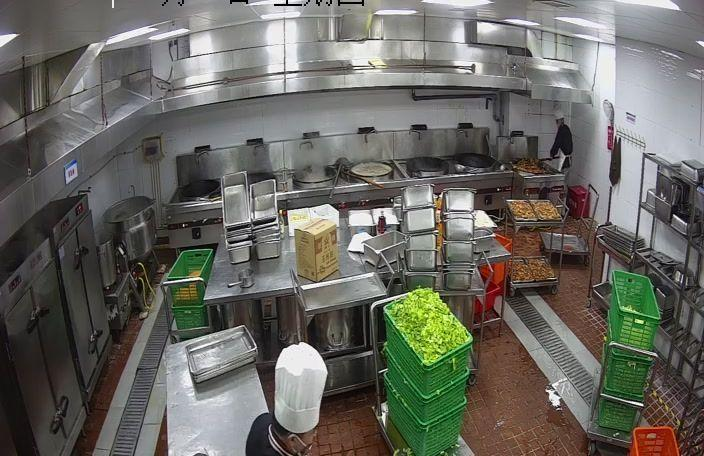mask: (297, 428, 318, 454)
